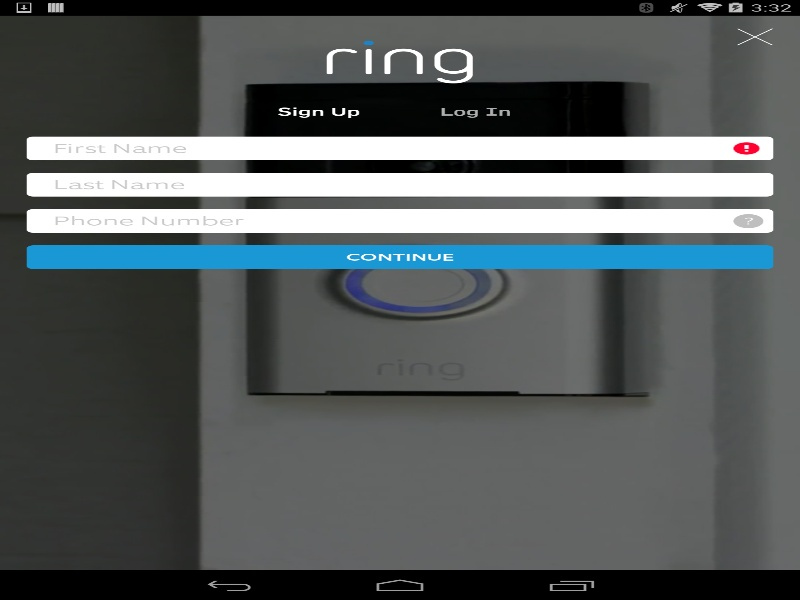Button: (26, 245, 773, 269)
Input: (26, 136, 773, 160), (26, 172, 773, 196), (26, 209, 773, 232)
